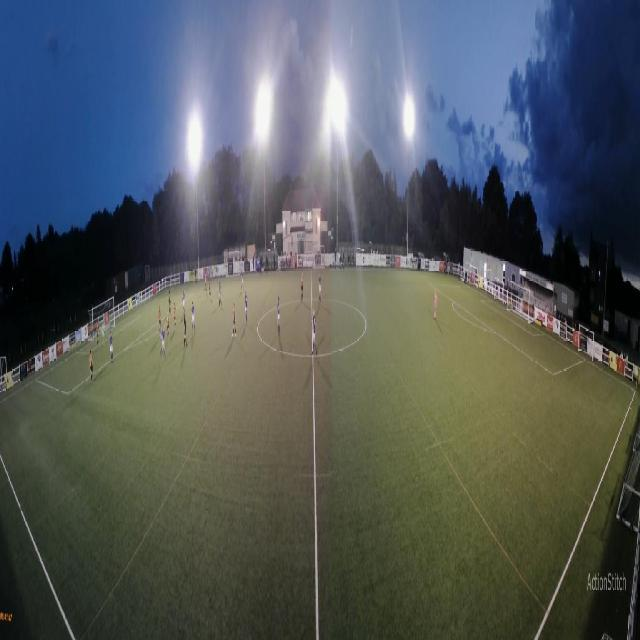player: (311, 308, 318, 355), (231, 301, 237, 338), (161, 324, 167, 359), (89, 349, 94, 385), (277, 295, 281, 337), (184, 313, 188, 348), (318, 272, 322, 307), (110, 331, 114, 363), (191, 301, 195, 333), (244, 291, 248, 323), (433, 289, 437, 321), (158, 306, 162, 337), (173, 302, 177, 330), (182, 288, 186, 314), (218, 282, 222, 308), (301, 270, 304, 304), (167, 313, 170, 340), (241, 271, 245, 291), (96, 323, 99, 349), (102, 321, 105, 347), (168, 290, 171, 314), (204, 273, 207, 294), (209, 276, 211, 297)
